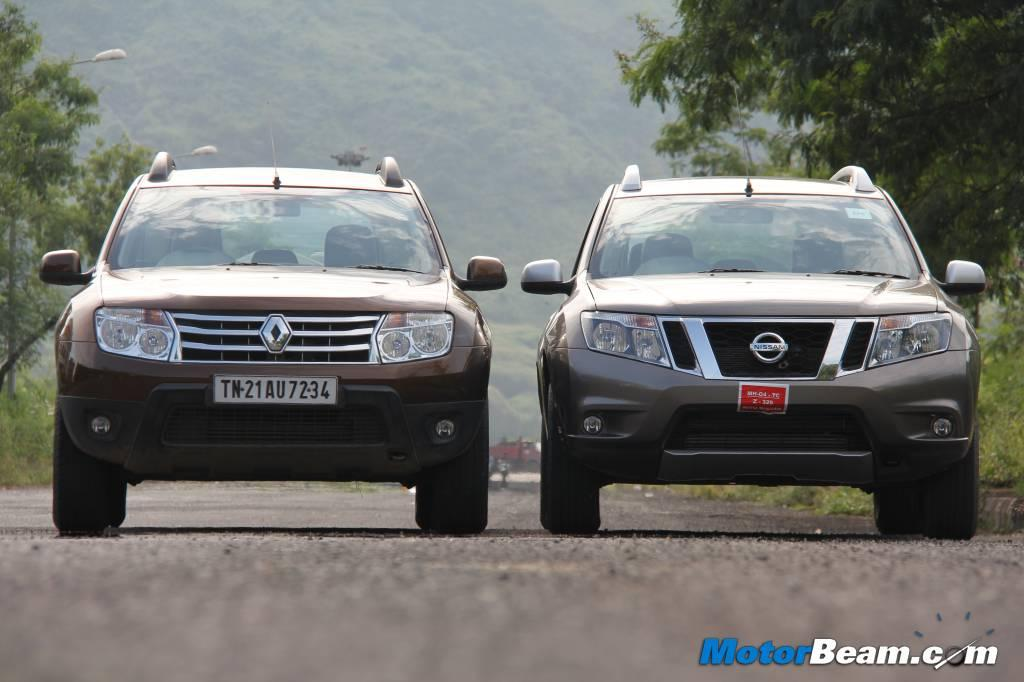car: (513, 148, 1024, 548), (33, 128, 511, 550)
